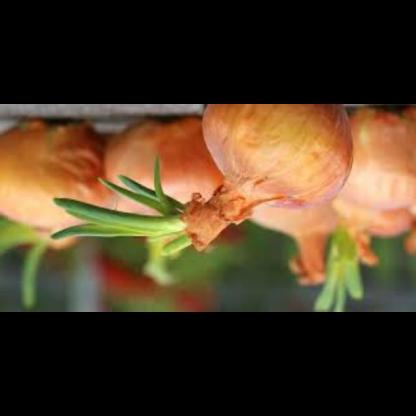onion: (187, 105, 354, 222), (83, 115, 210, 230), (1, 104, 102, 234), (336, 107, 416, 235), (248, 186, 352, 263)
